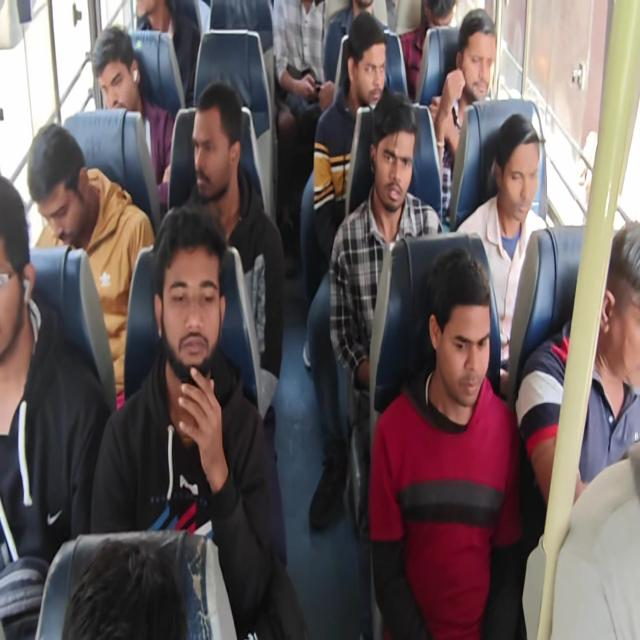person: (52, 535, 213, 640), (153, 208, 223, 391), (430, 268, 498, 415), (22, 107, 94, 240), (0, 166, 41, 374), (178, 77, 246, 199), (592, 247, 640, 393), (92, 14, 138, 114), (507, 130, 543, 233), (351, 41, 391, 123), (461, 18, 494, 103), (379, 128, 407, 211), (416, 0, 455, 51), (125, 0, 164, 26), (351, 0, 379, 25)
